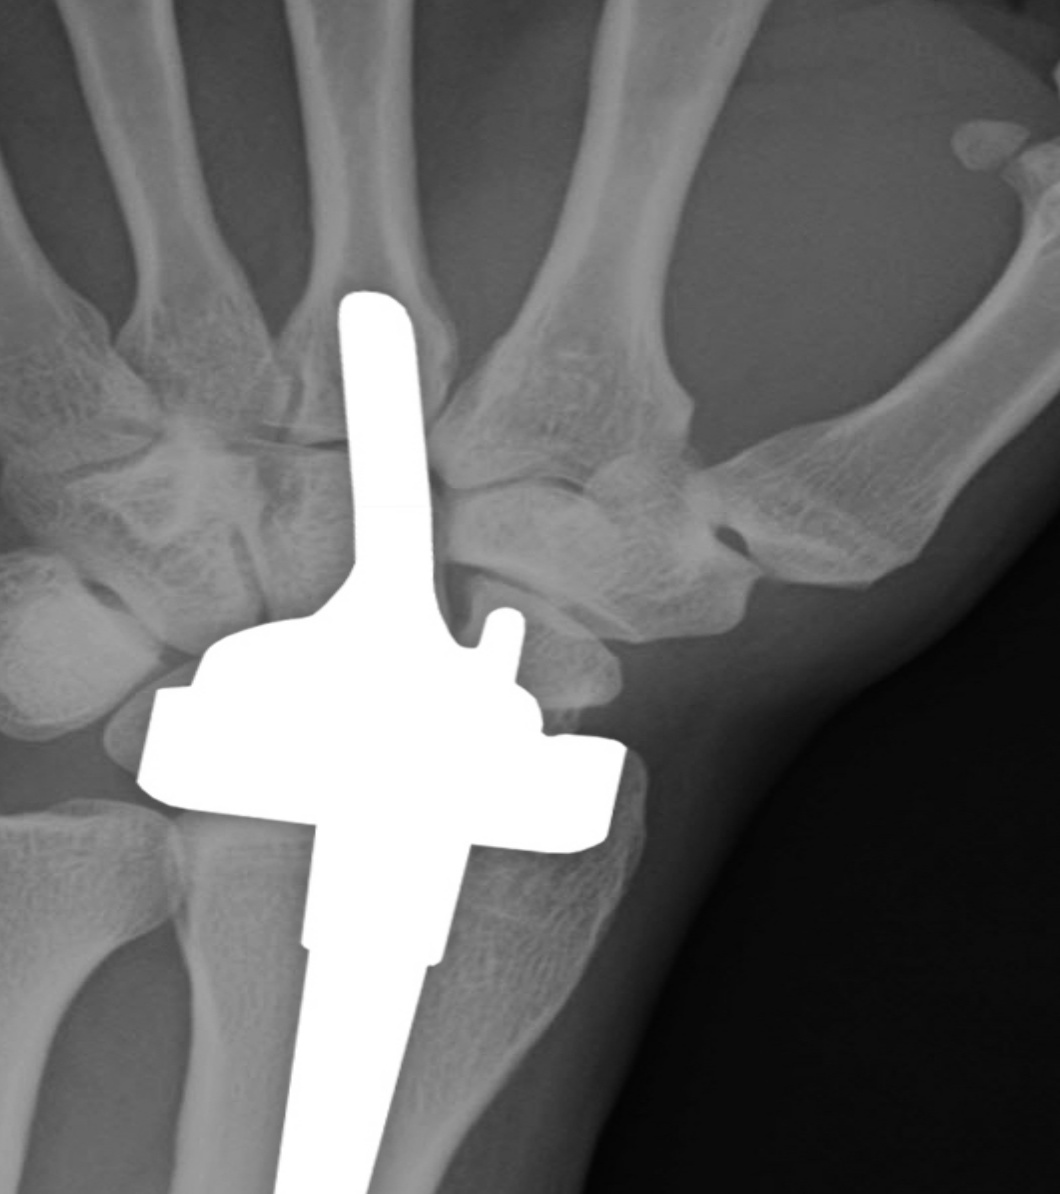Wrist-Biax-DePuuy: (135, 251, 641, 1194)
